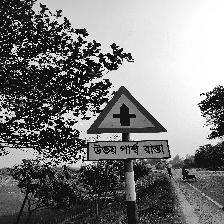Crossroad: (90, 82, 188, 169)
